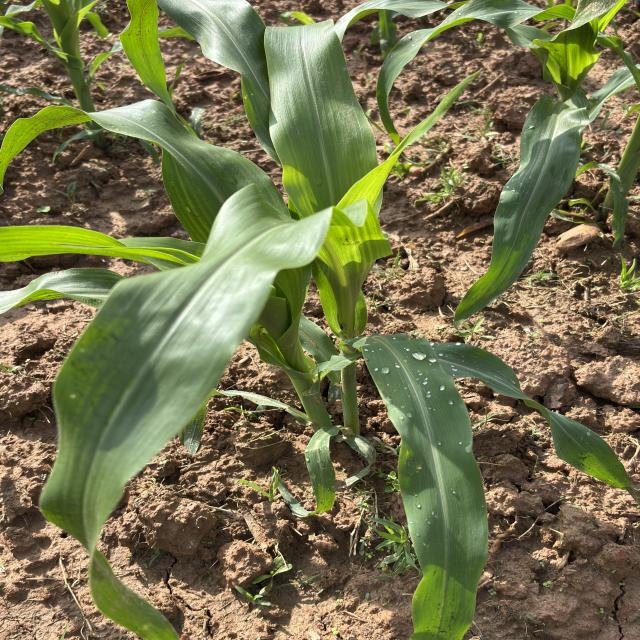maize: (112, 0, 510, 630), (490, 0, 640, 311), (0, 0, 128, 192)
